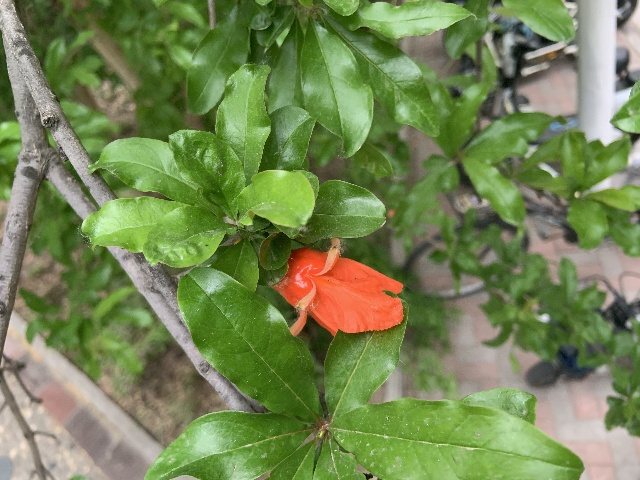flower: (270, 237, 403, 336)
